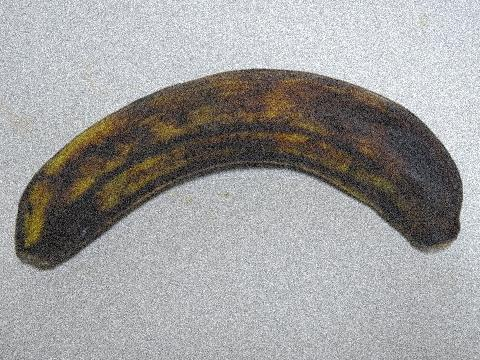overripe: (14, 59, 470, 277)
